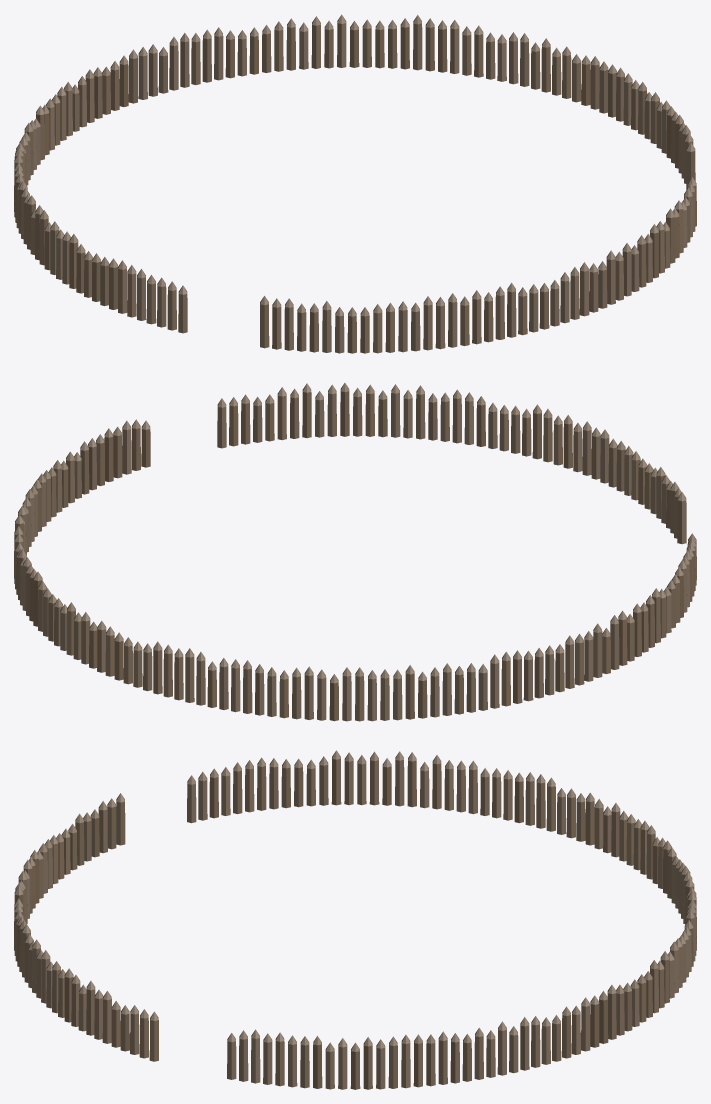
The model's file is palisade_ring.glb.
3 views of the same model, one above another, from view 1: azimuth 30°, elevation 25°; view 2: azimuth 150°, elevation 25°; view 3: azimuth 270°, elevation 25° (orthographic).
Visible parts, largest first — view 1: palisade_ring2; view 2: palisade_ring2; view 3: palisade_ring2.
Part boxes in pixels (x1=…): palisade_ring2: x1=14, y1=14, x2=696, y2=353; palisade_ring2: x1=14, y1=383, x2=696, y2=721; palisade_ring2: x1=14, y1=750, x2=696, y2=1089.
Bounding box in the file's own units: 40.64 × 3.49 × 40.55.
